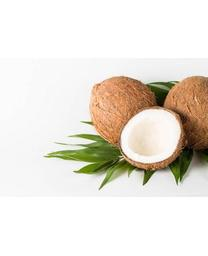coconut: (119, 105, 185, 170), (90, 77, 157, 139), (163, 76, 207, 154)
